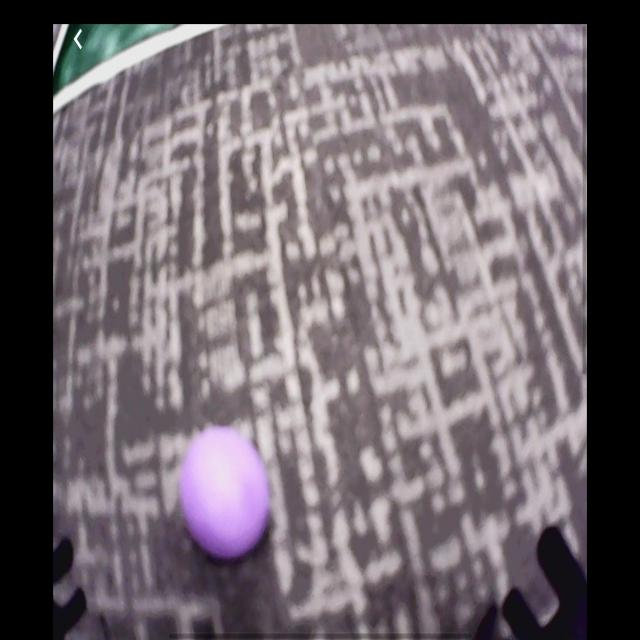ball: (179, 429, 270, 555)
